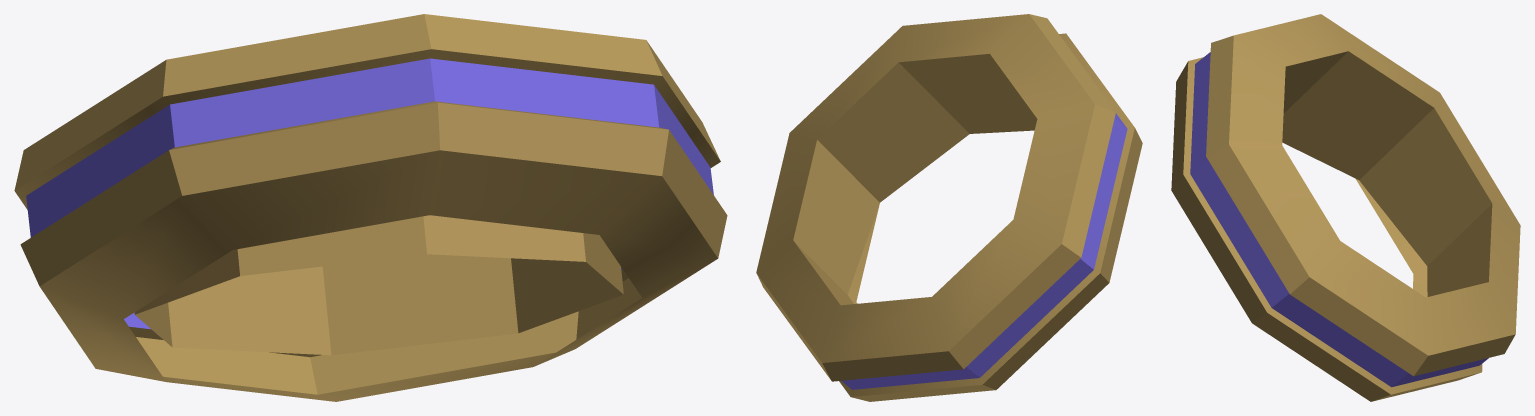
Rendered from genericRing.fbx.
The picture shows the model from 3 angles, left to right: view 1: azimuth 30°, elevation 25°; view 2: azimuth 150°, elevation 25°; view 3: azimuth 270°, elevation 25°; orthographic projection. The views are drawn at different scales.
Visible parts, largest first — view 1: genericRing; view 2: genericRing; view 3: genericRing.
Part boxes in pixels (x1,y1,x2,y2): genericRing: (14,14,727,401); genericRing: (756,14,1142,401); genericRing: (1171,14,1520,401).
Bounding box in the file's own units: 1.47 × 1.24 × 1.22.
Materials: 1 (1 with a texture image).
